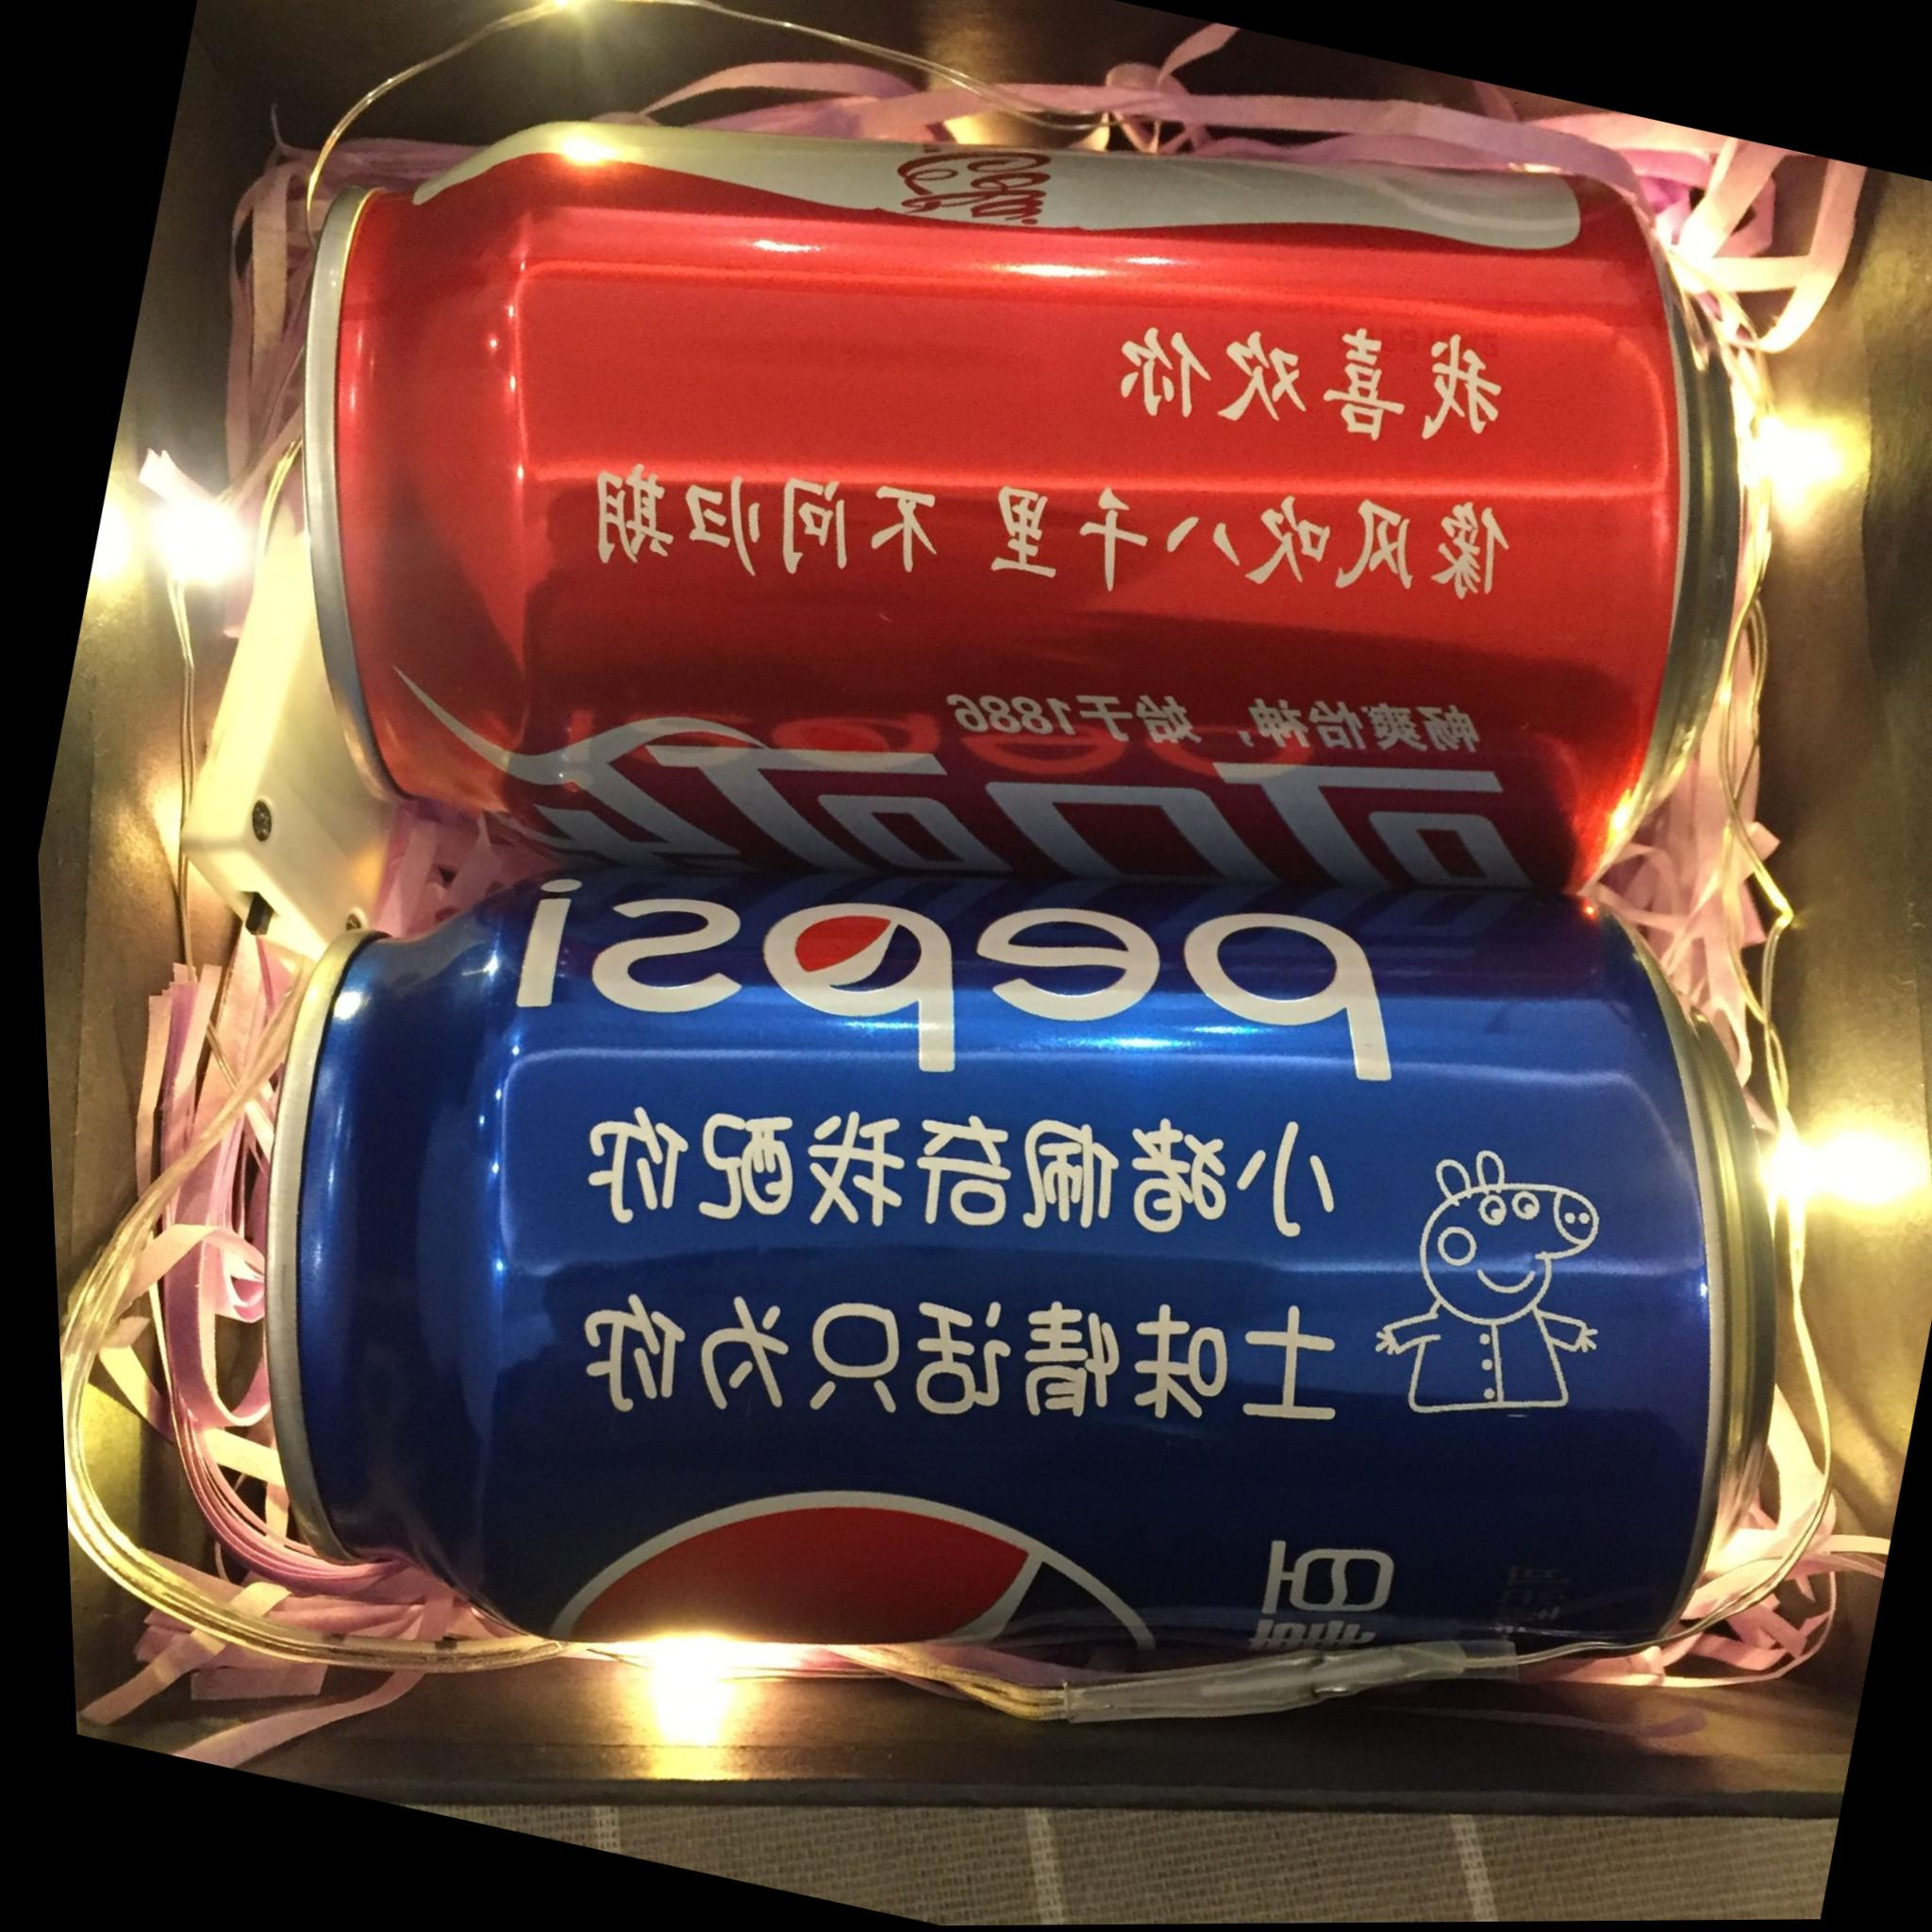metal: (267, 870, 1785, 1716), (306, 122, 1737, 890)
